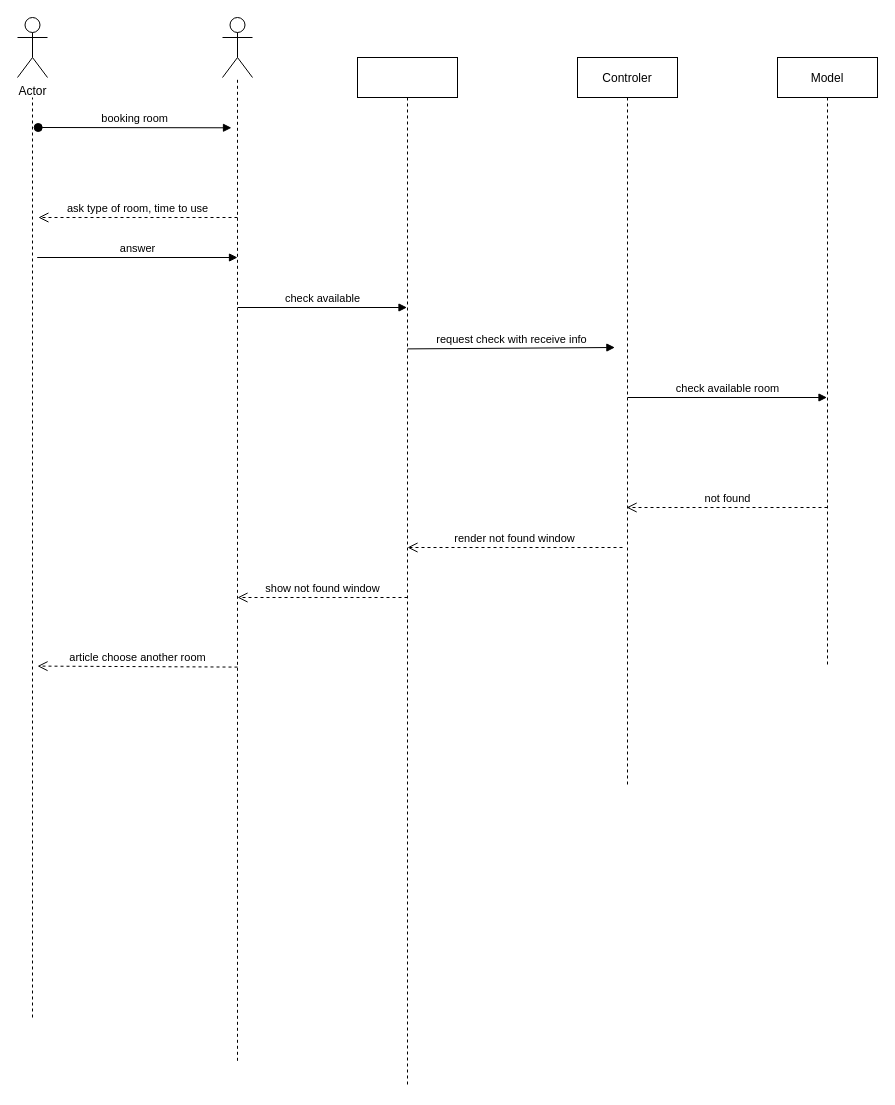
The diagram is 895 pixels wide and 1105 high, and some of its shapes have lost their labels. Here are the shapes that lost their labels. From the top down, the box of each, then its label:
(222, 16, 252, 78): Reception
(356, 56, 458, 1088): View
